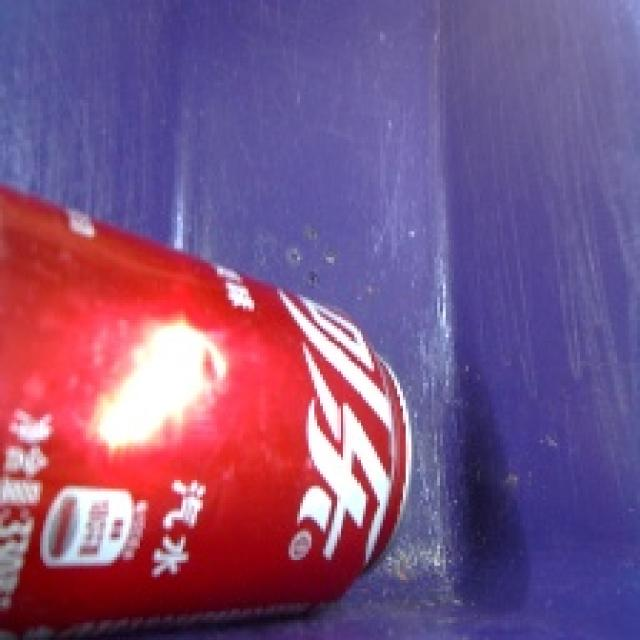metal: (0, 165, 425, 640)
